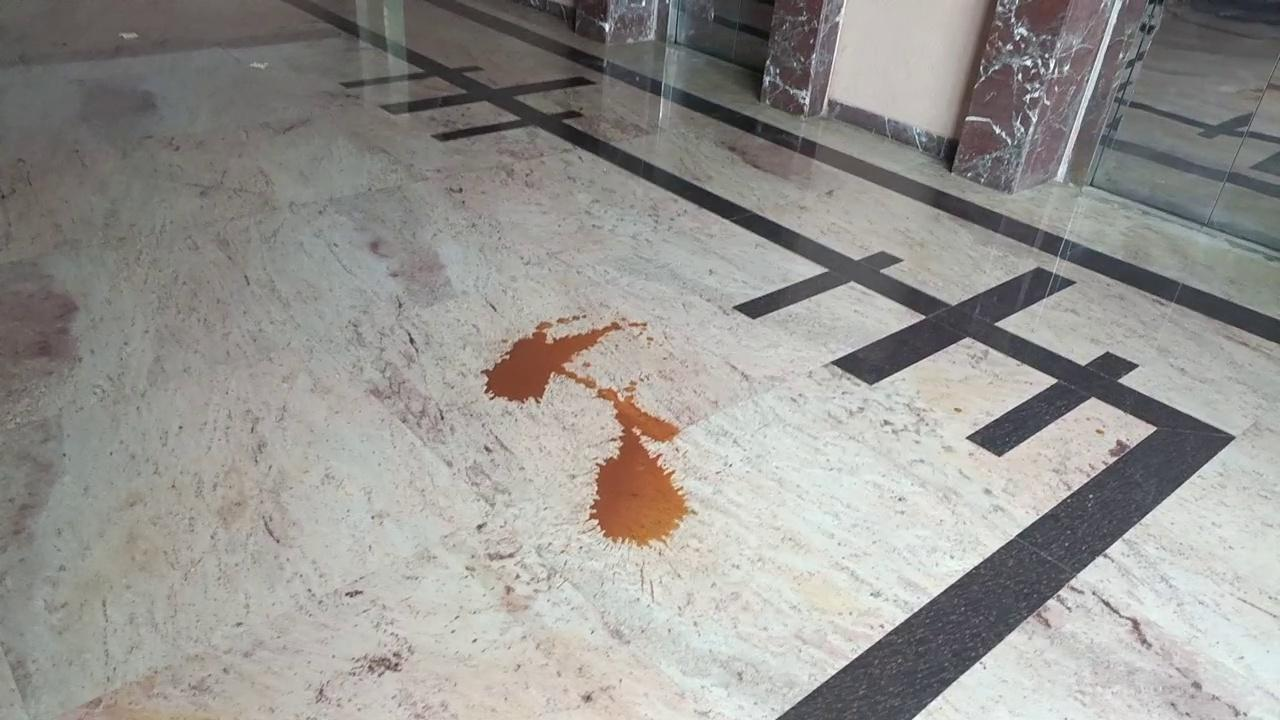dirty_floor: (486, 317, 698, 553)
